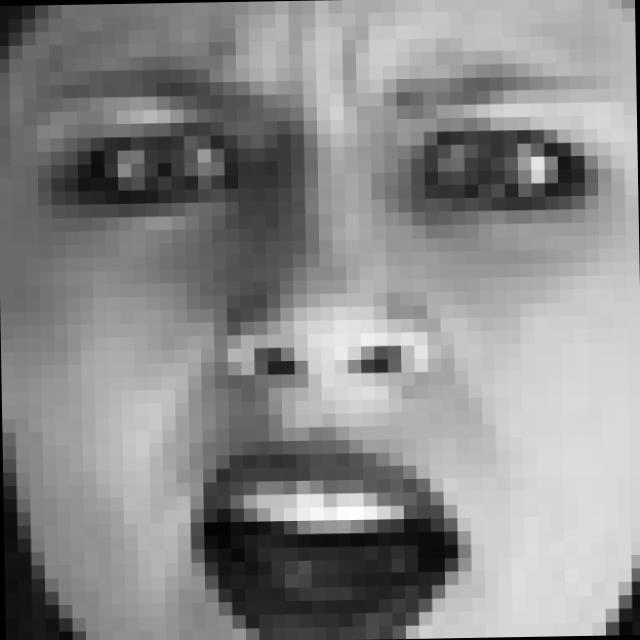disgust: (59, 63, 601, 640)
